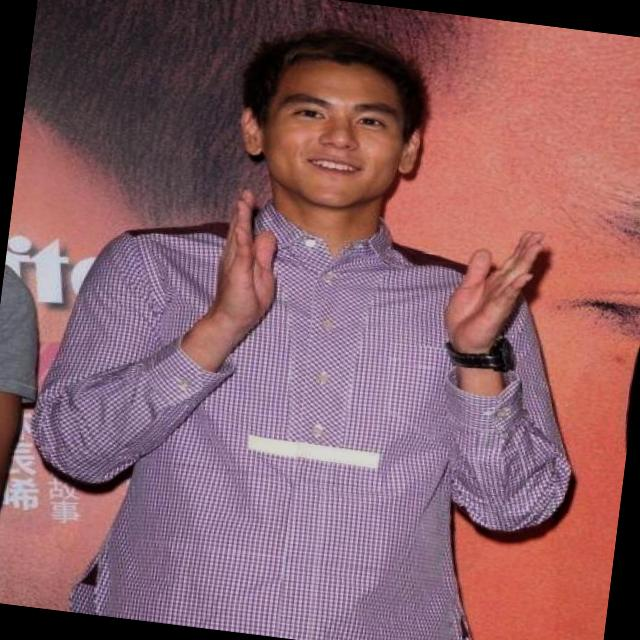no_vest: (38, 169, 561, 640)
